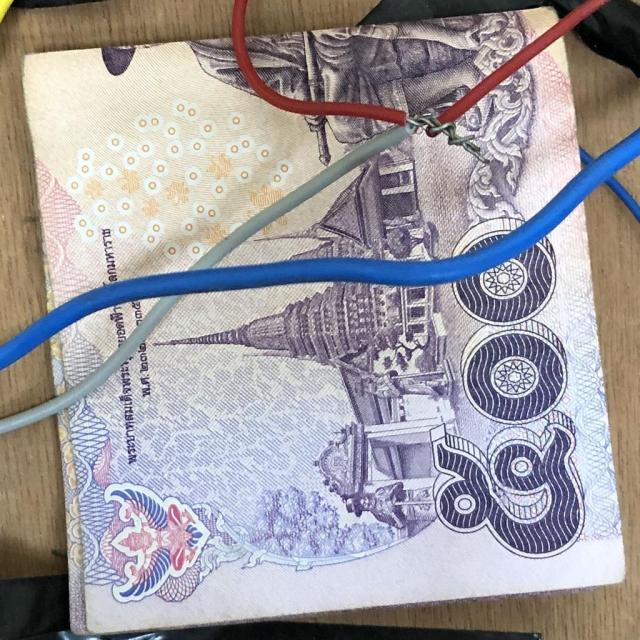THAI500: (58, 204, 624, 632), (24, 39, 392, 309), (218, 40, 580, 268), (249, 9, 556, 115), (51, 300, 156, 396)
